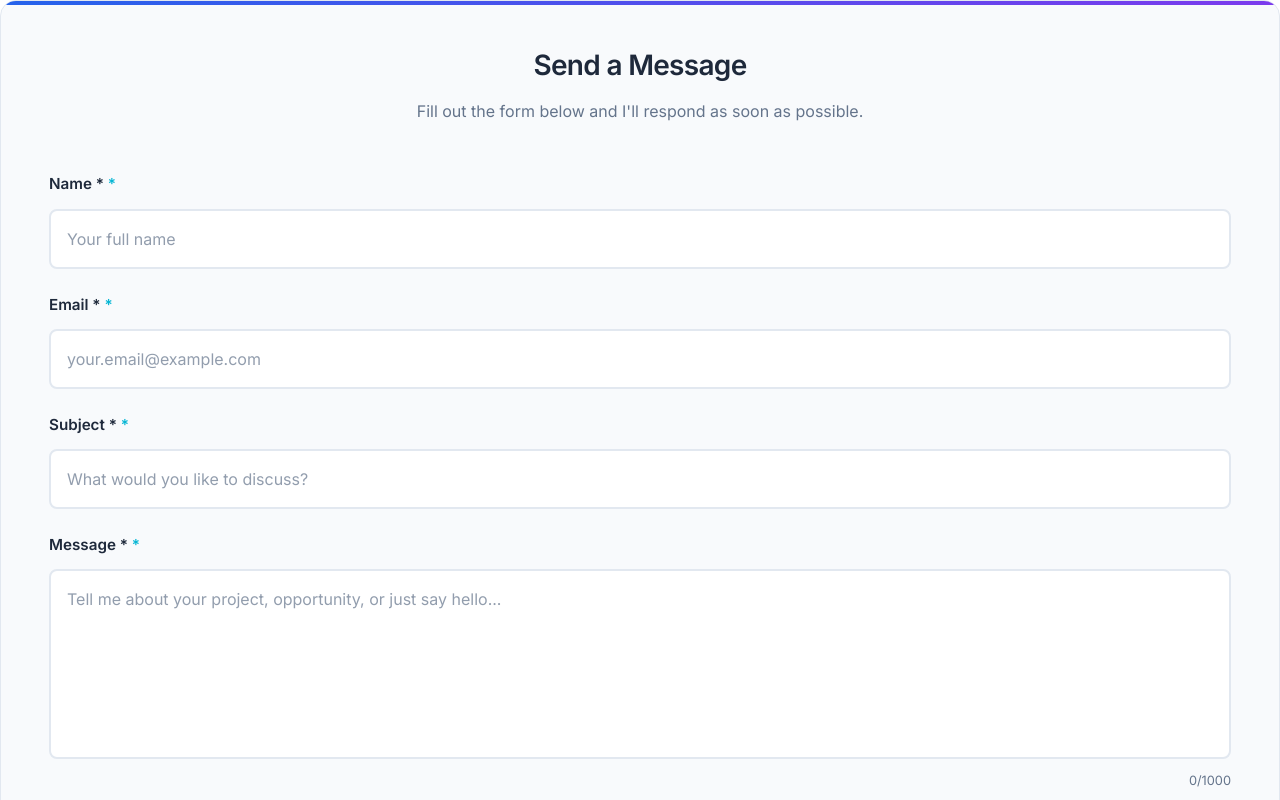
Accessibility Compliance Tests › Form Accessibility › should disable form during submission with proper feedback
// Fill out form
Type "John Doe" into the field labelled "Name *".
click(640, 238); type("John Doe")  # box 49,208 -> 1231,268
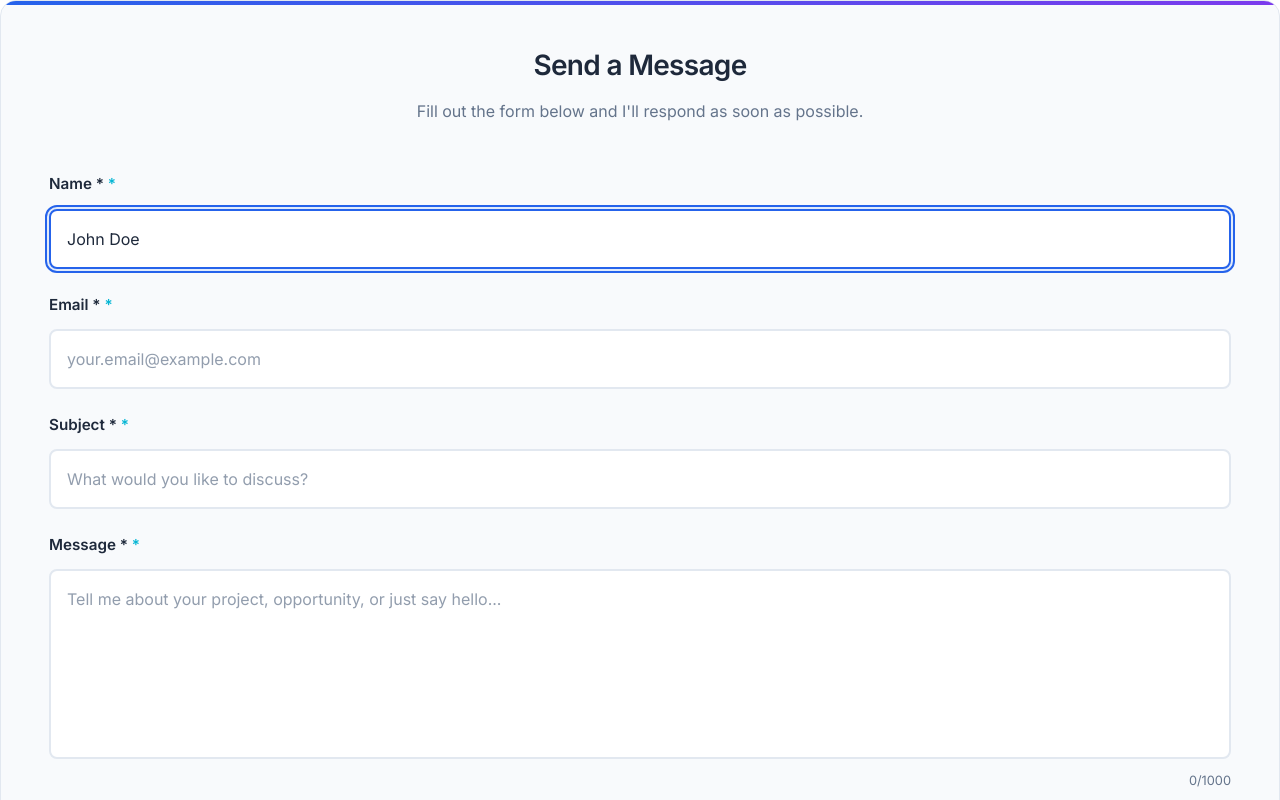
Type "john@example.com" into the field labelled "Email *".
click(640, 359); type("john@example.com")  # box 49,329 -> 1231,389
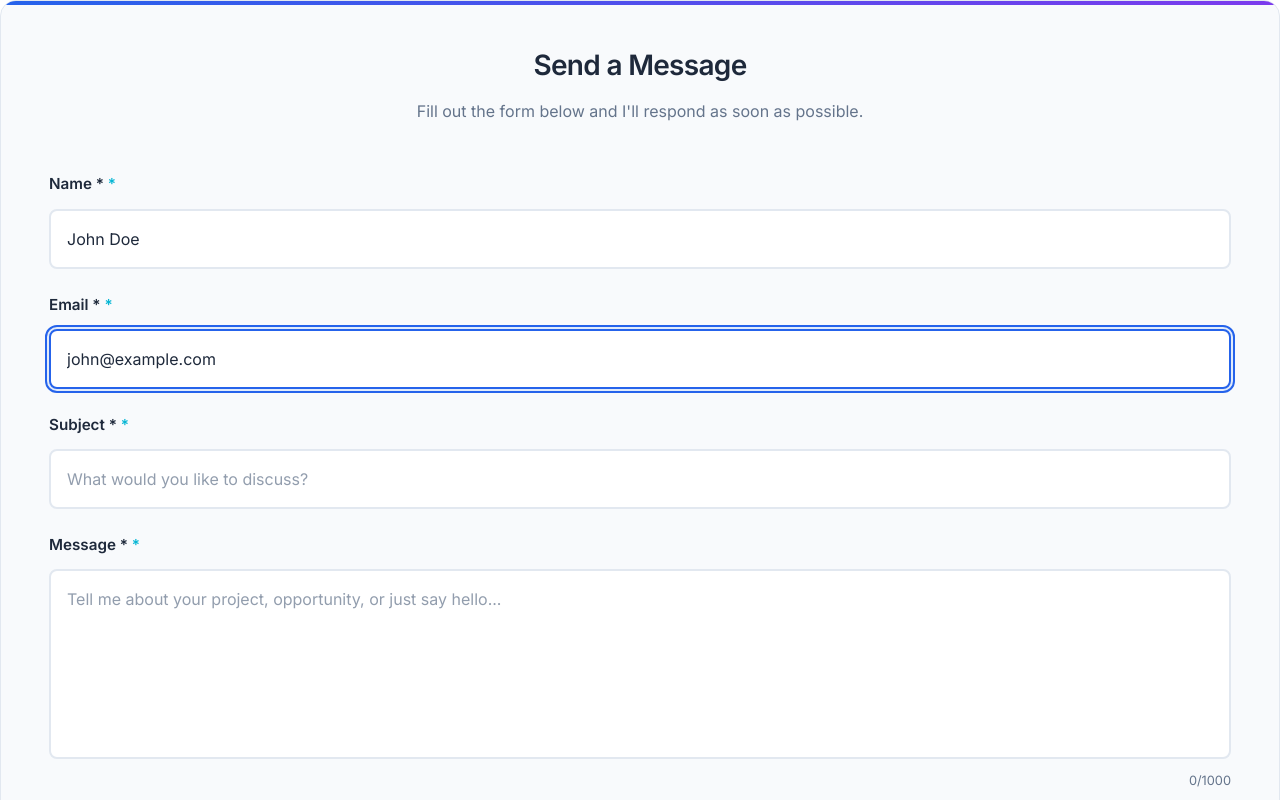
Type "Test Subject" into the field labelled "Subject *".
click(640, 479); type("Test Subject")  # box 49,449 -> 1231,509
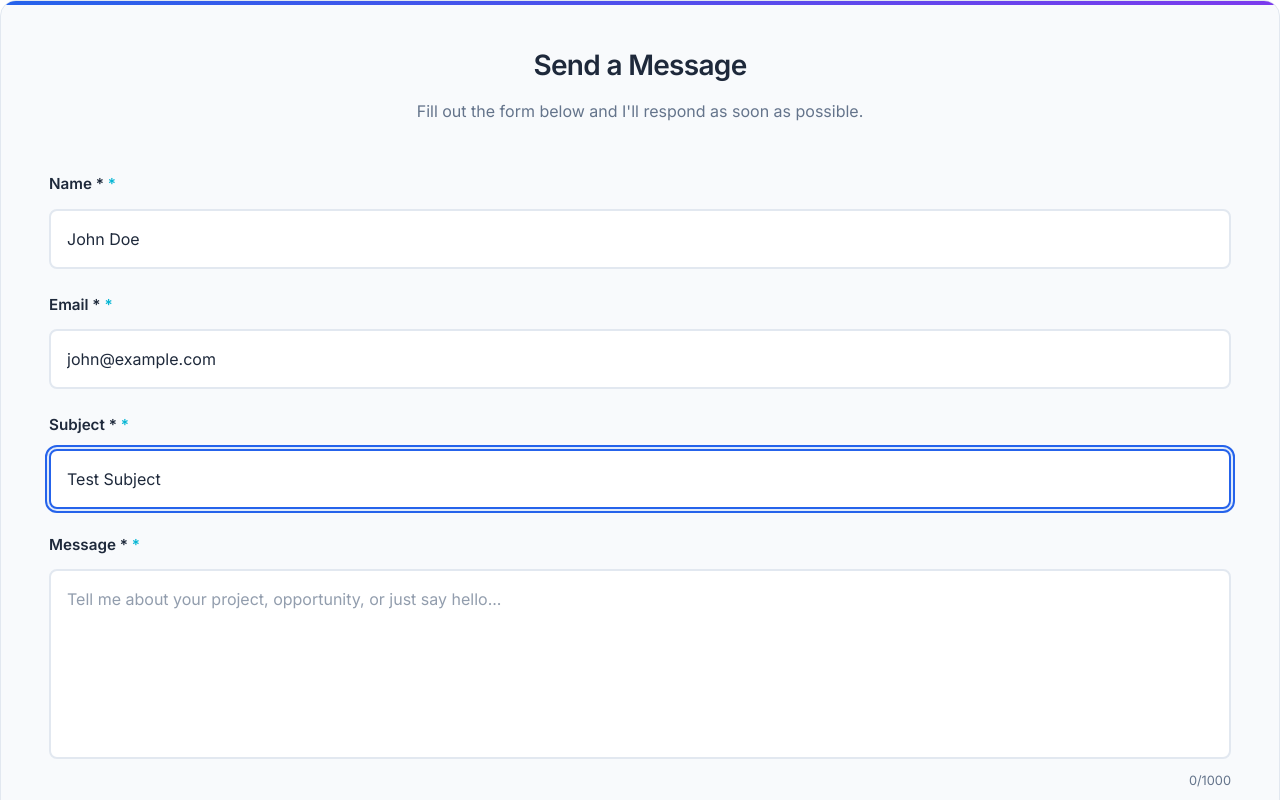
Type "This is a test message." into the text box labelled "Message *".
click(640, 664); type("This is a test message.")  # box 49,569 -> 1231,759
(page scrolled)
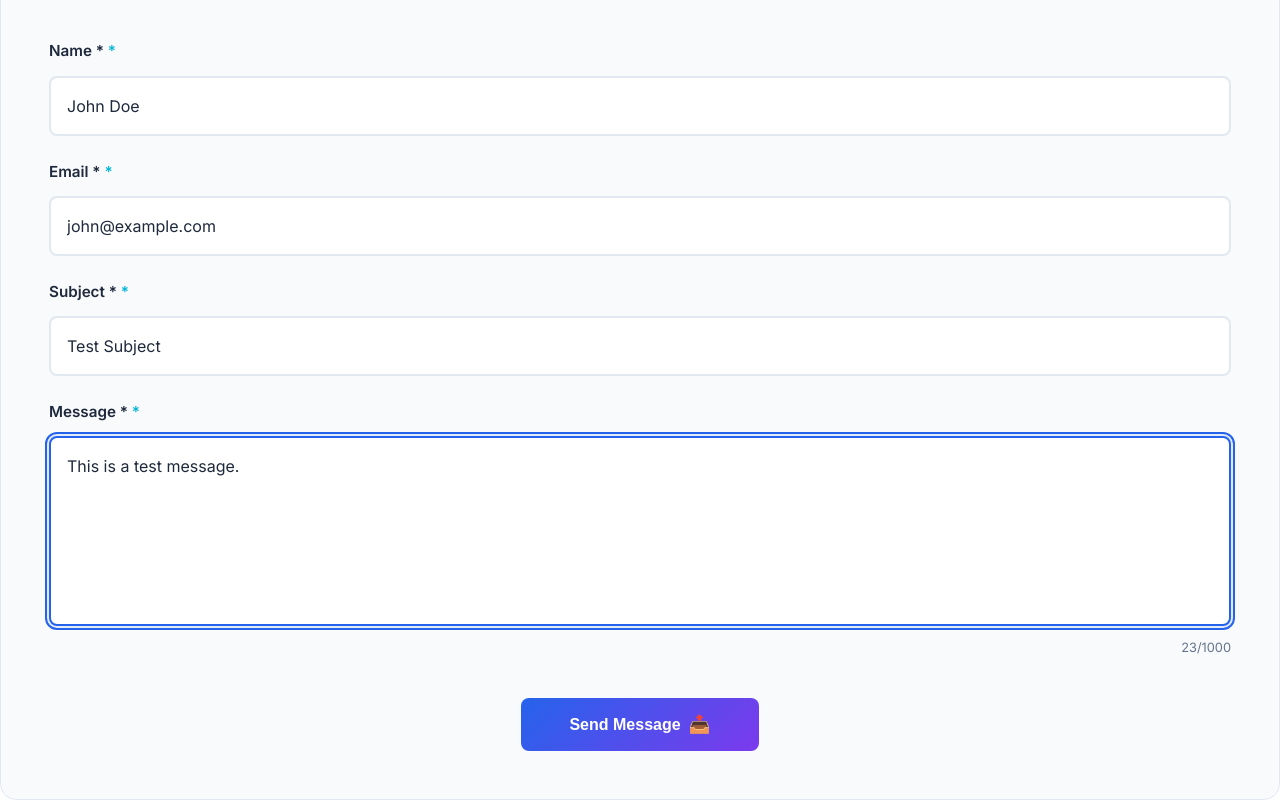
Click the button "Send Message 📤".
click(640, 725)  # box 521,698 -> 758,752
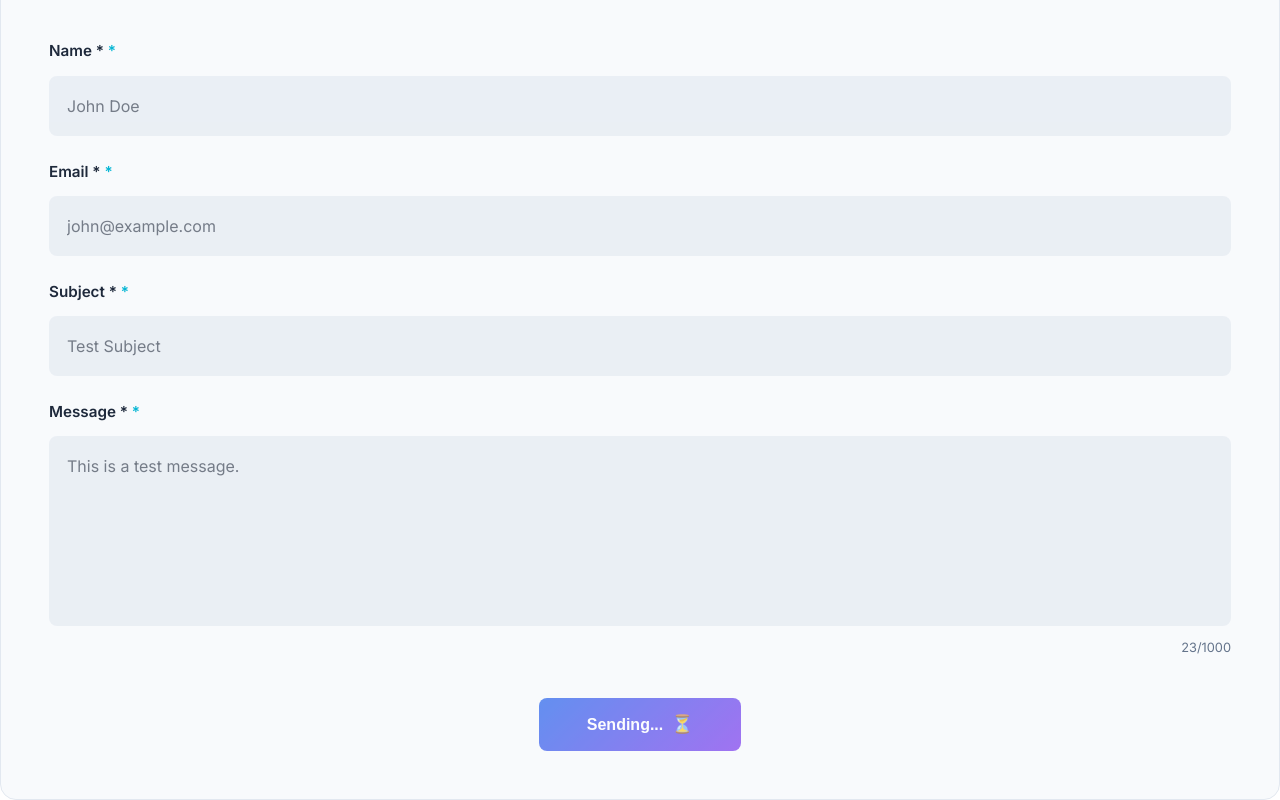
expect the field labelled "Name *" is disabled: met, box 49,76 -> 1231,136
expect the button "Sending... ⏳" is disabled: met, box 539,698 -> 741,752
